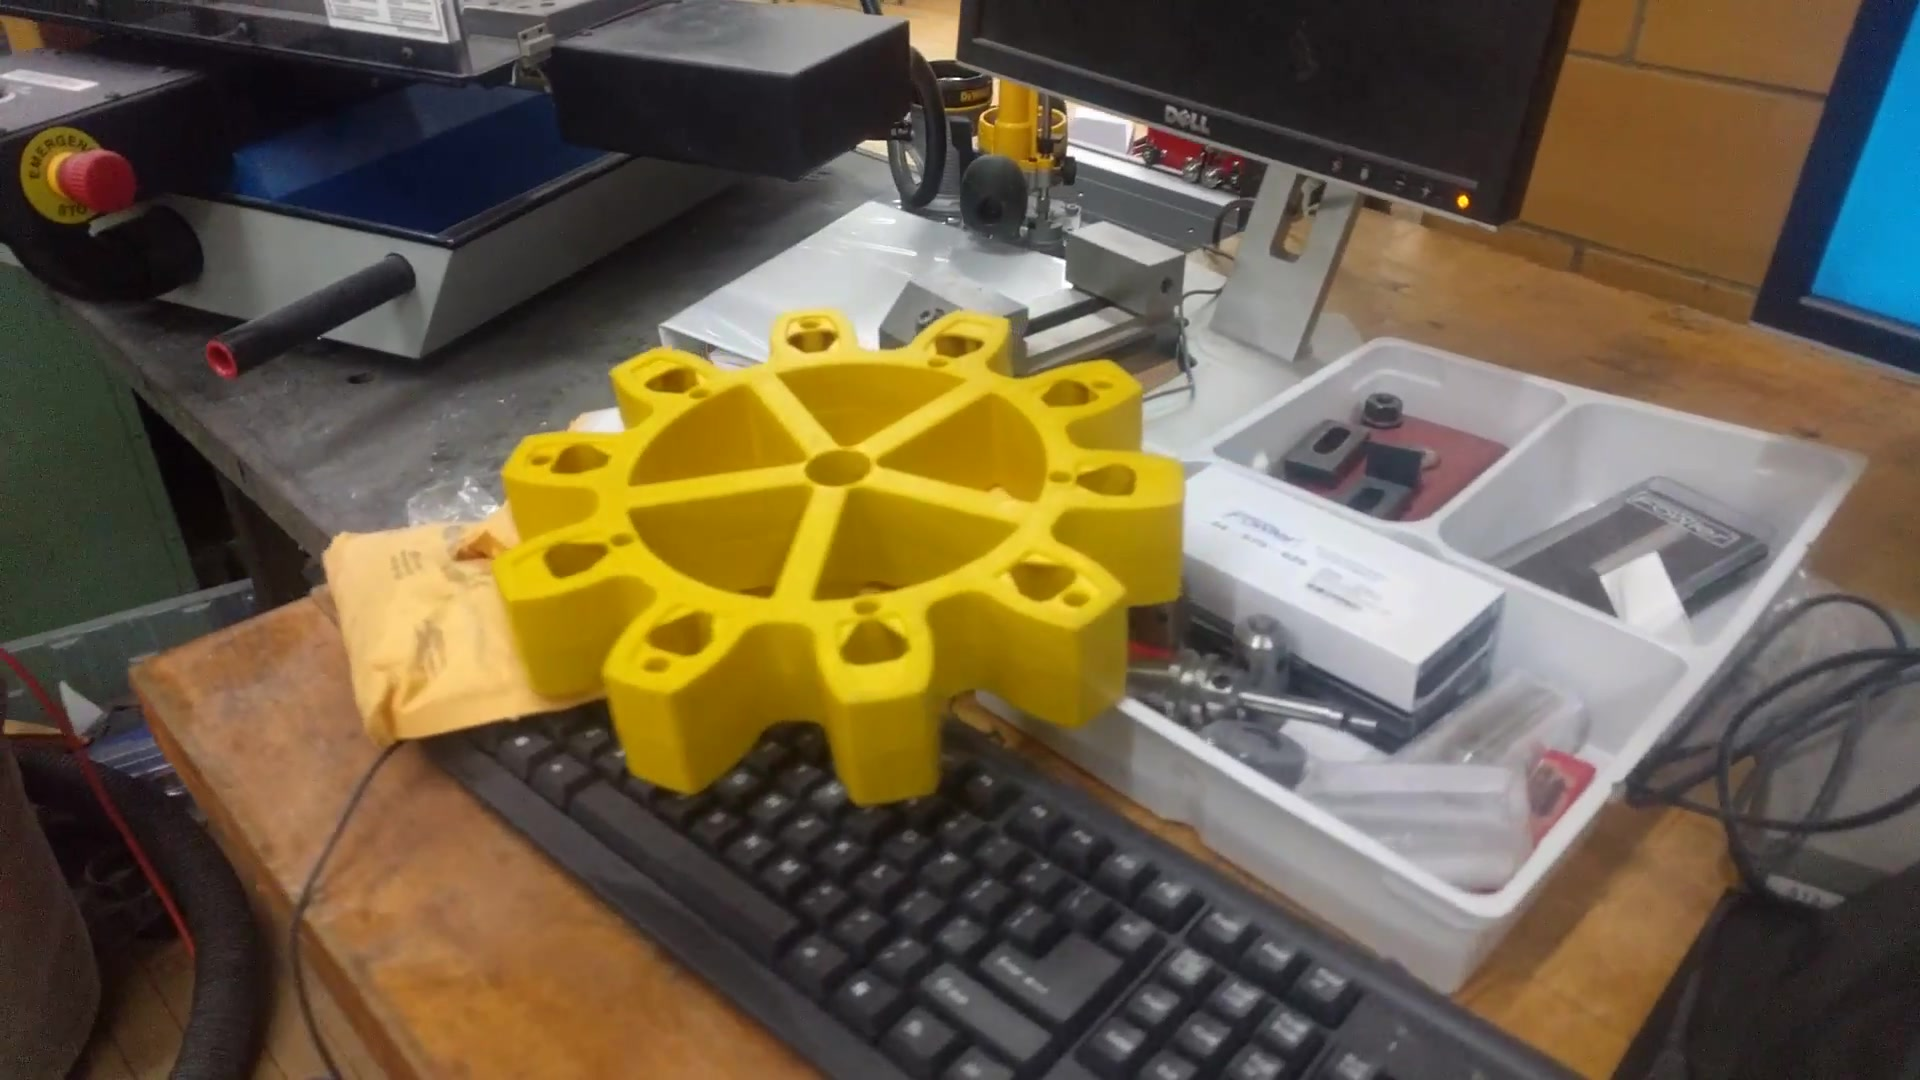gear: (465, 251, 1212, 847)
